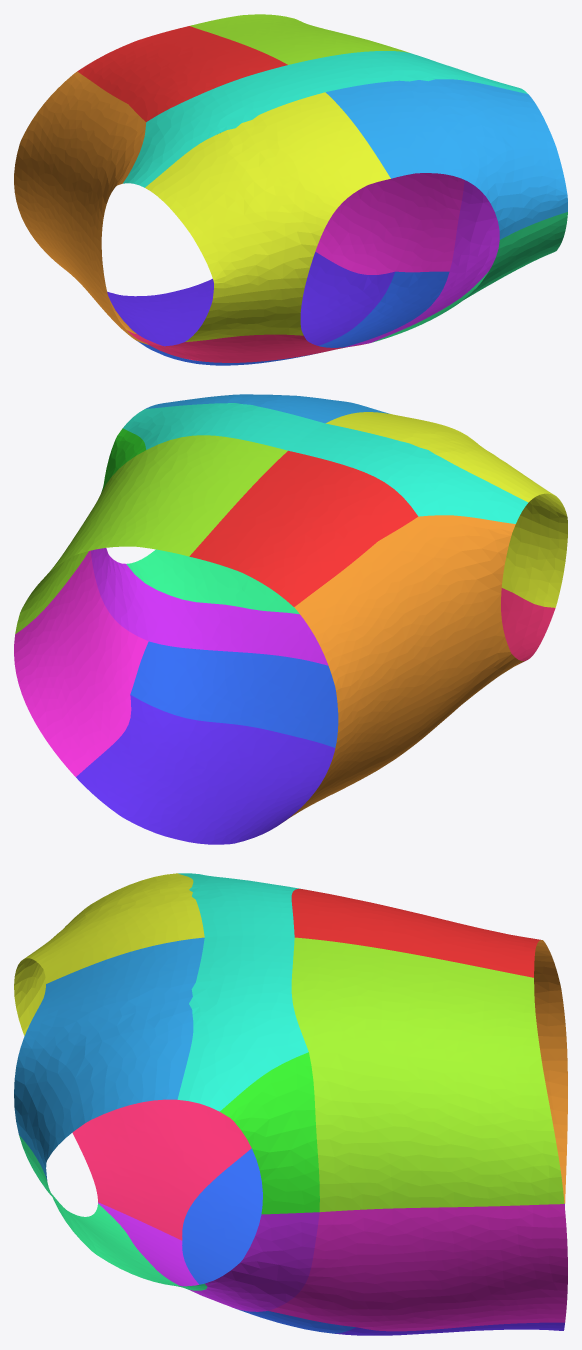
File: vast_garmentA.obj
The picture shows the model from 3 angles, top to bottom: view 1: azimuth 30°, elevation 25°; view 2: azimuth 150°, elevation 25°; view 3: azimuth 270°, elevation 25°; orthographic projection. The views are drawn at different scales.
Visible parts, largest first — view 1: vast_garmentA; view 2: vast_garmentA; view 3: vast_garmentA.
Part boxes in pixels (x1,y1,x2,y2): vast_garmentA: [14, 14, 567, 365]; vast_garmentA: [14, 394, 567, 844]; vast_garmentA: [14, 873, 567, 1335].
Size of the model in its own units: 668 by 490 by 659.
